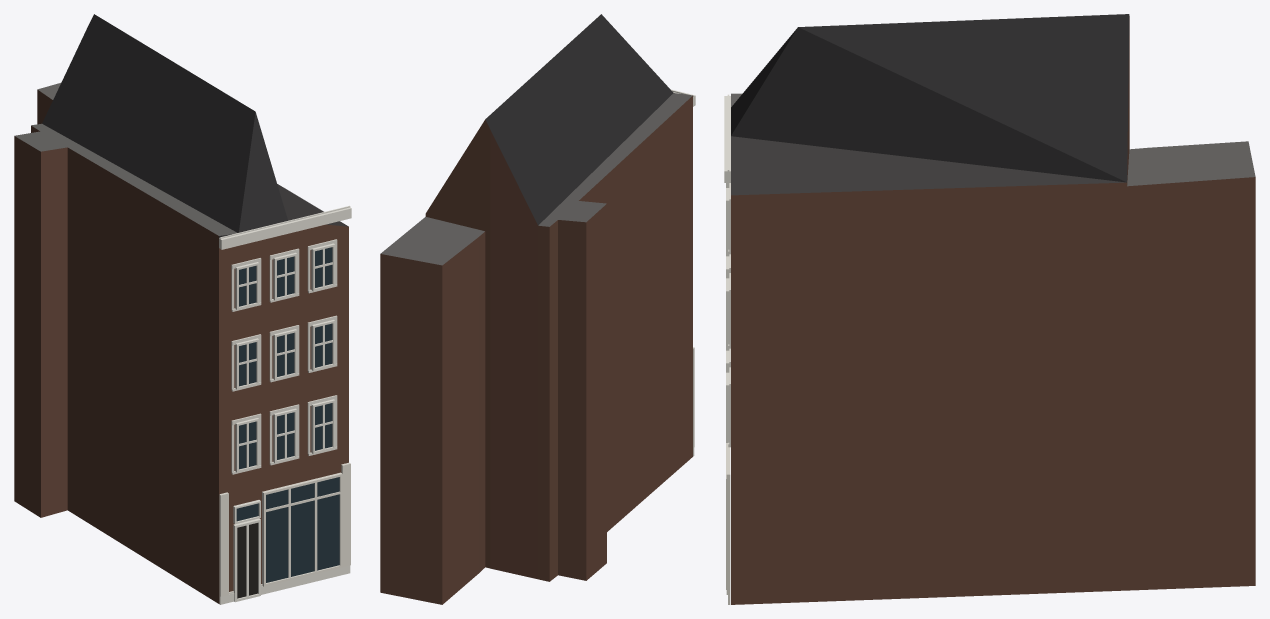
3 renders of one model, left to right at view 1: azimuth 30°, elevation 25°; view 2: azimuth 150°, elevation 25°; view 3: azimuth 270°, elevation 25°, orthographic. The views are drawn at different scales.
Visible parts, largest first — view 1: spec-0363100012177978; view 2: spec-0363100012177978; view 3: spec-0363100012177978.
Boxes of the visible parts, bbox=[...] form: spec-0363100012177978: bbox=[14, 14, 351, 604]; spec-0363100012177978: bbox=[380, 14, 695, 604]; spec-0363100012177978: bbox=[724, 14, 1255, 604].
Bounding box in the file's own units: 6.61 × 16.17 × 14.39.
